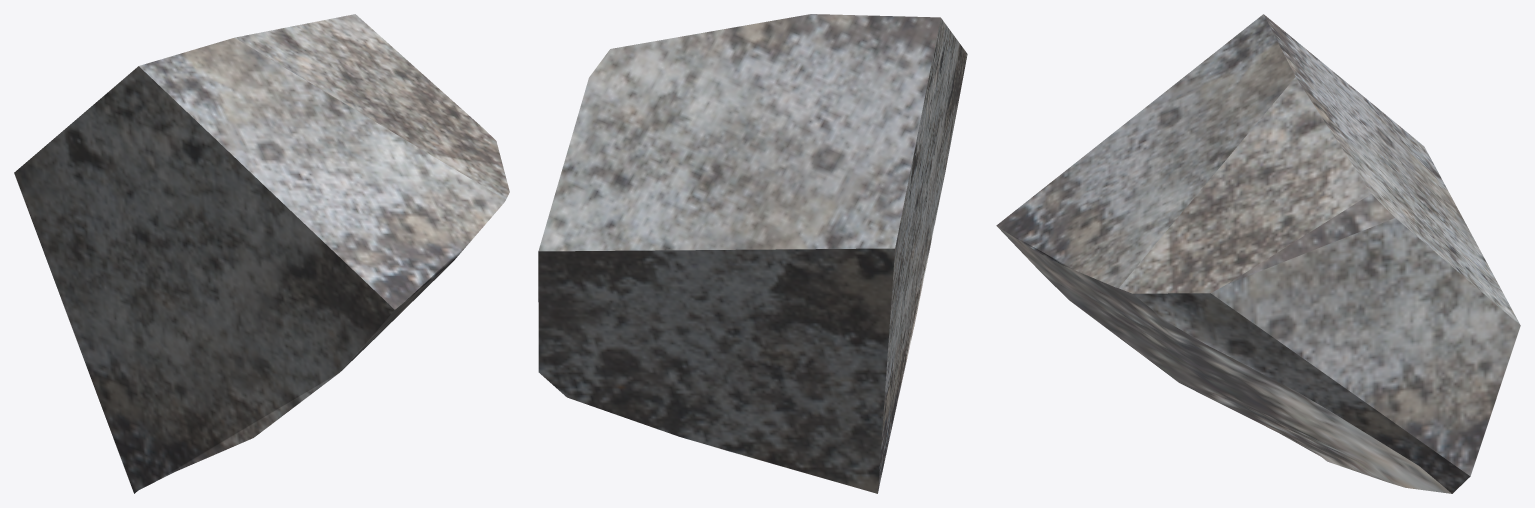
File: Asteroid_Large_001_02_001_03_031.fbx
3 views of the same model, side by side, from view 1: azimuth 30°, elevation 25°; view 2: azimuth 150°, elevation 25°; view 3: azimuth 270°, elevation 25° (orthographic). The views are drawn at different scales.
Parts seen in each view (by area): view 1: Asteroid_Large_001_02_001_03_031; view 2: Asteroid_Large_001_02_001_03_031; view 3: Asteroid_Large_001_02_001_03_031.
Boxes of the visible parts, left/top/right/bottom form: Asteroid_Large_001_02_001_03_031: left=14, top=14, right=509, bottom=493; Asteroid_Large_001_02_001_03_031: left=538, top=14, right=967, bottom=493; Asteroid_Large_001_02_001_03_031: left=996, top=14, right=1520, bottom=493.
Bounding box in the file's own units: 6.37 × 7.58 × 8.3.
